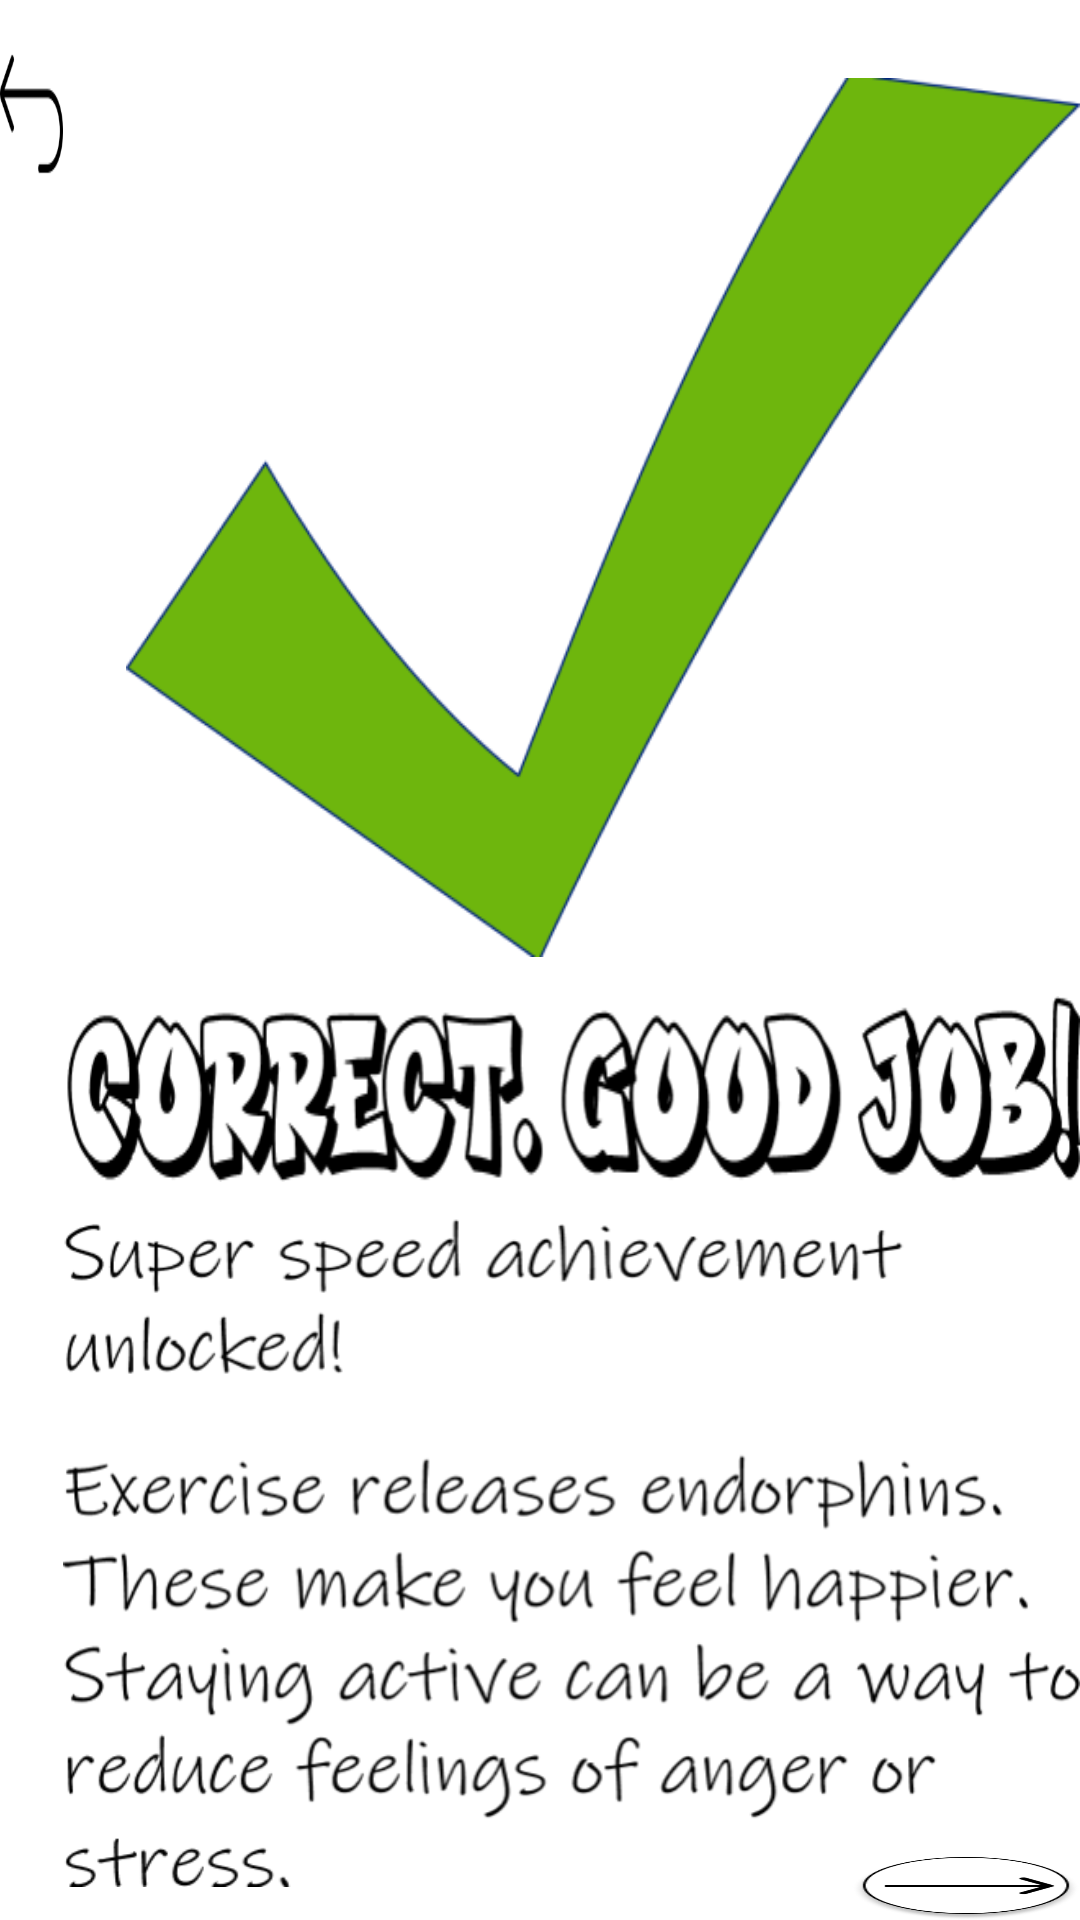

Icon bounding boxes for this 1080px×1920px phone screenshot, format (x1, y1, x2, y2):
arrow: (862, 1857, 1070, 1917)
